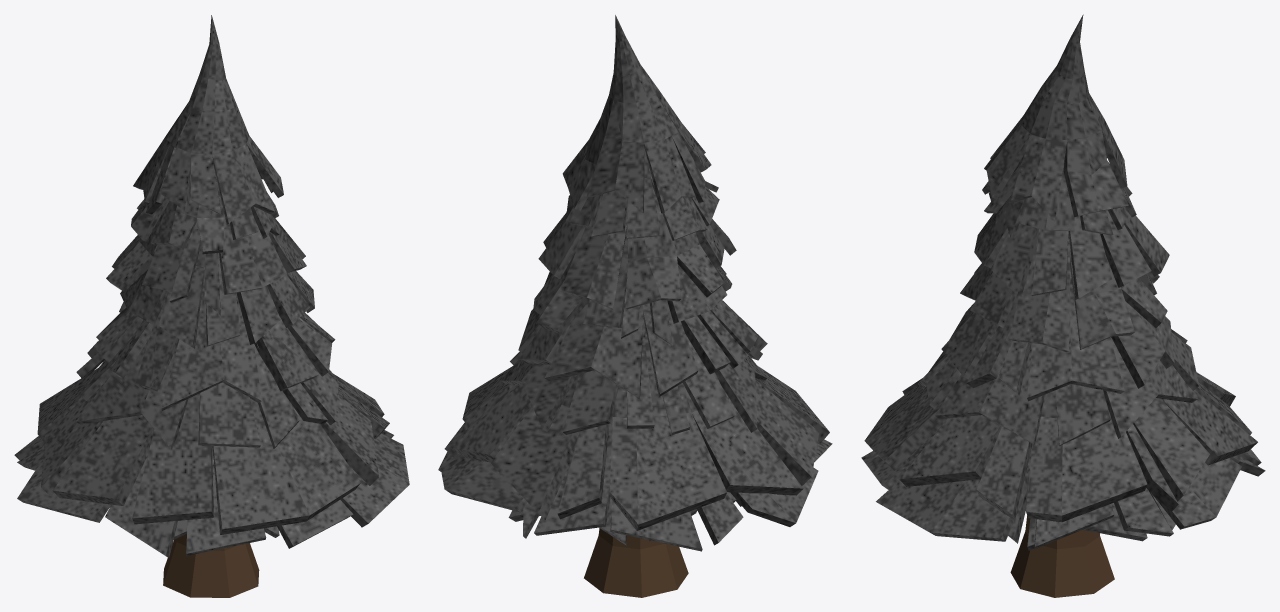
Rendered from Tree.fbx.
3 views of the same model, side by side, from view 1: azimuth 30°, elevation 25°; view 2: azimuth 150°, elevation 25°; view 3: azimuth 270°, elevation 25° (orthographic). The views are drawn at different scales.
Visible parts, largest first — view 1: Object_4, Object_5; view 2: Object_4, Object_5; view 3: Object_4, Object_5.
Boxes of the visible parts, x1,y1,x2,y2 form: Object_4: [14, 15, 409, 557]; Object_5: [163, 534, 259, 597]; Object_4: [438, 15, 832, 551]; Object_5: [584, 528, 688, 597]; Object_4: [861, 14, 1265, 550]; Object_5: [1010, 515, 1114, 597].
Bounding box in the file's own units: 374 × 573 × 370.
